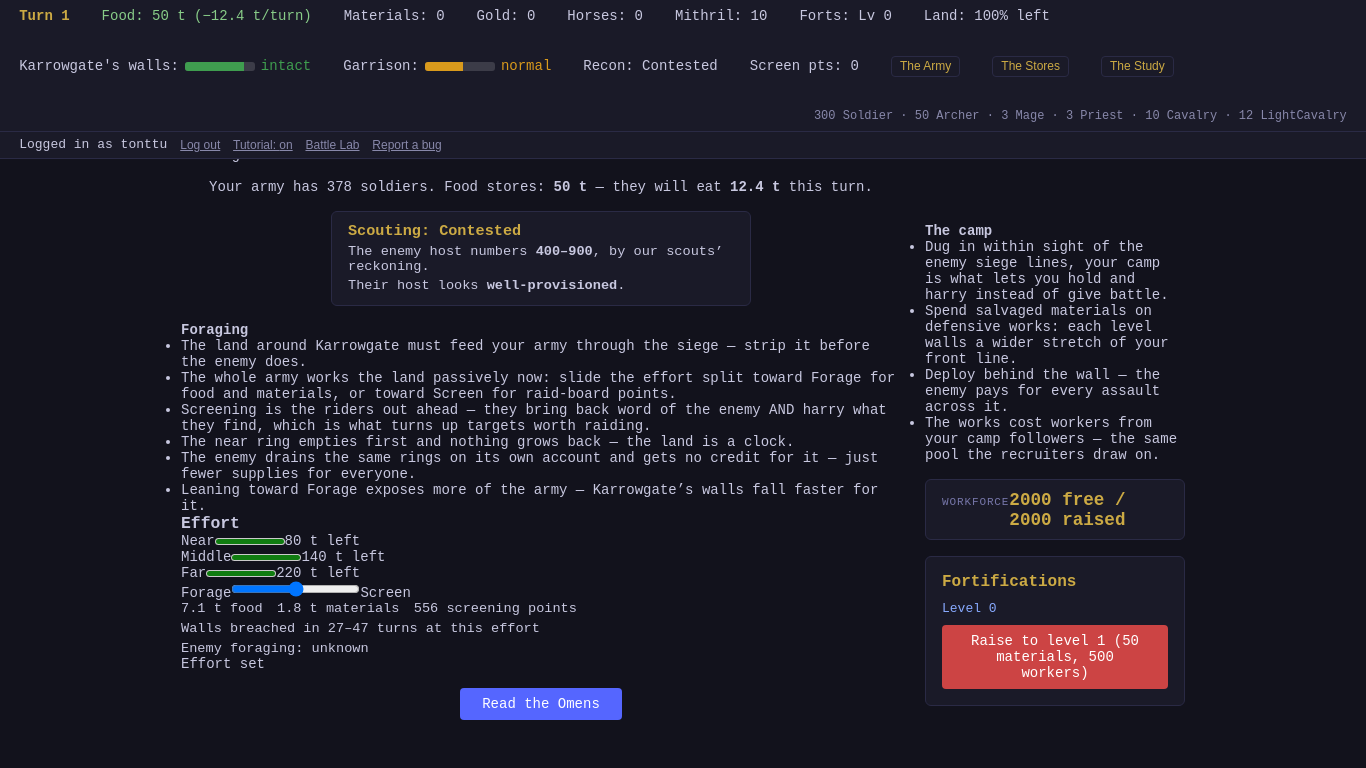
Test: effort slider › reads the meter as turns-to-breach, dividing the INTERPOLATED fill
(page scrolled)
Check: the text with test id "effort-preview-breach" reads "Walls breached in 27–47 turns at this effort", box [181, 621, 540, 636]
Set the slider with test id "effort-slider" showing "Forage Screen" to "1" at x=352, y=589, box [231, 581, 360, 597]
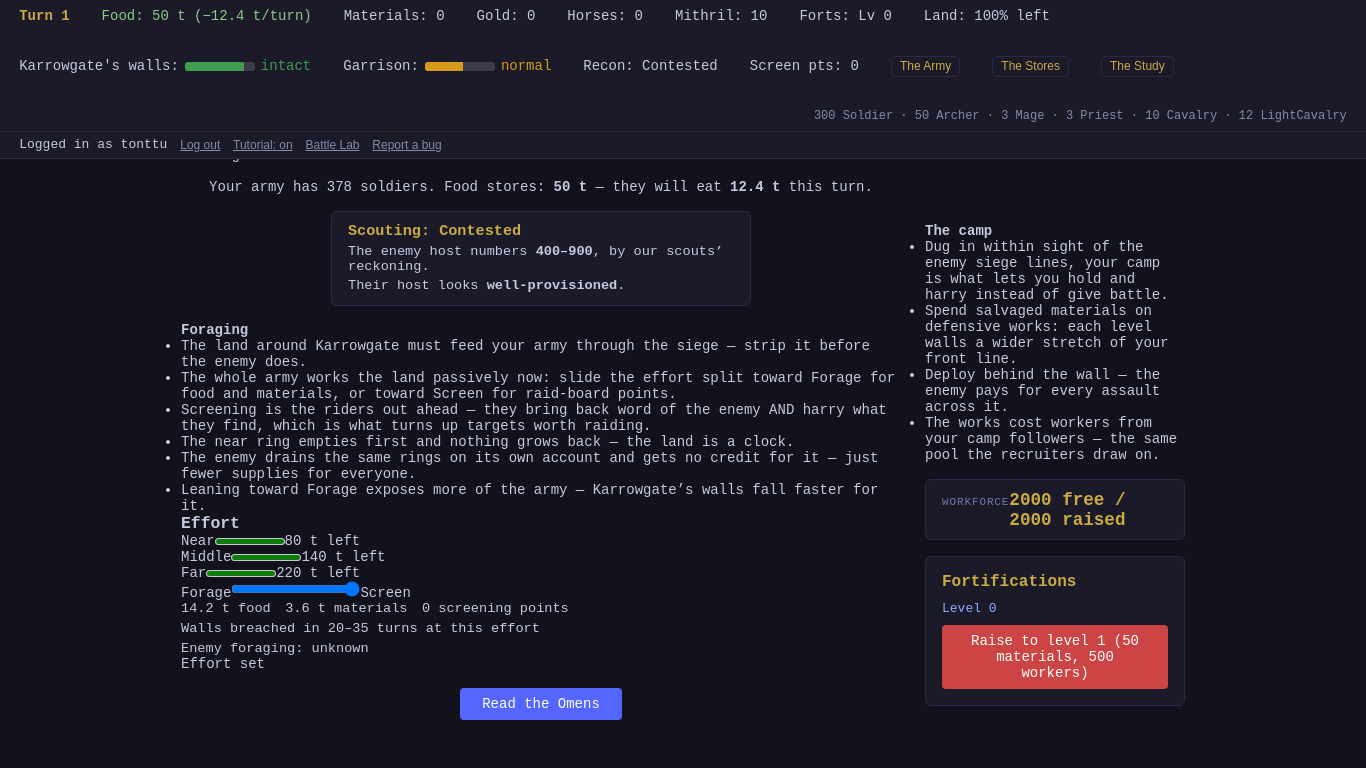
Check: the text with test id "effort-preview-breach" reads "Walls breached in 20–35 turns at this effort", box [181, 621, 540, 636]
Set the slider with test id "effort-slider" showing "Forage Screen" to "0" at x=239, y=589, box [231, 581, 360, 597]
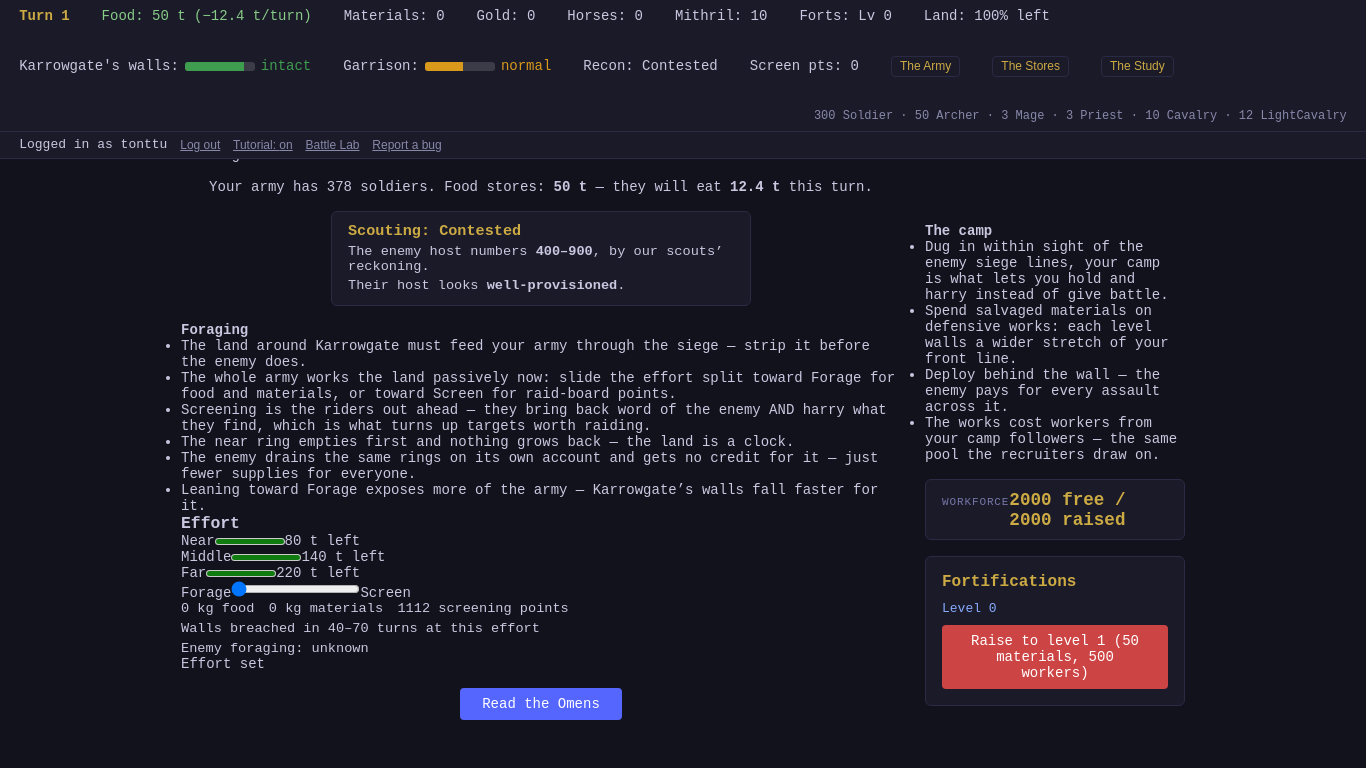
Check: the text with test id "effort-preview-breach" reads "Walls breached in 40–70 turns at this effort", box [181, 621, 540, 636]
